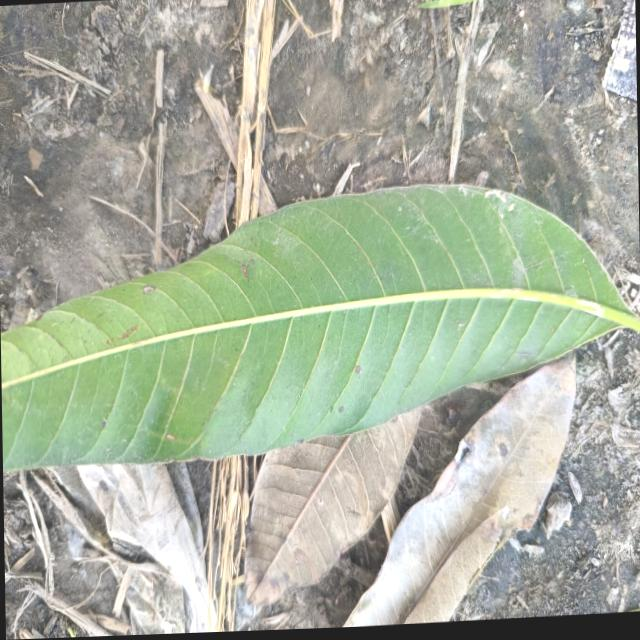Anthracnose: (240, 258, 255, 278), (353, 364, 362, 374), (338, 404, 345, 415)
Powdery Mildew: (484, 188, 517, 218), (142, 283, 156, 294)
